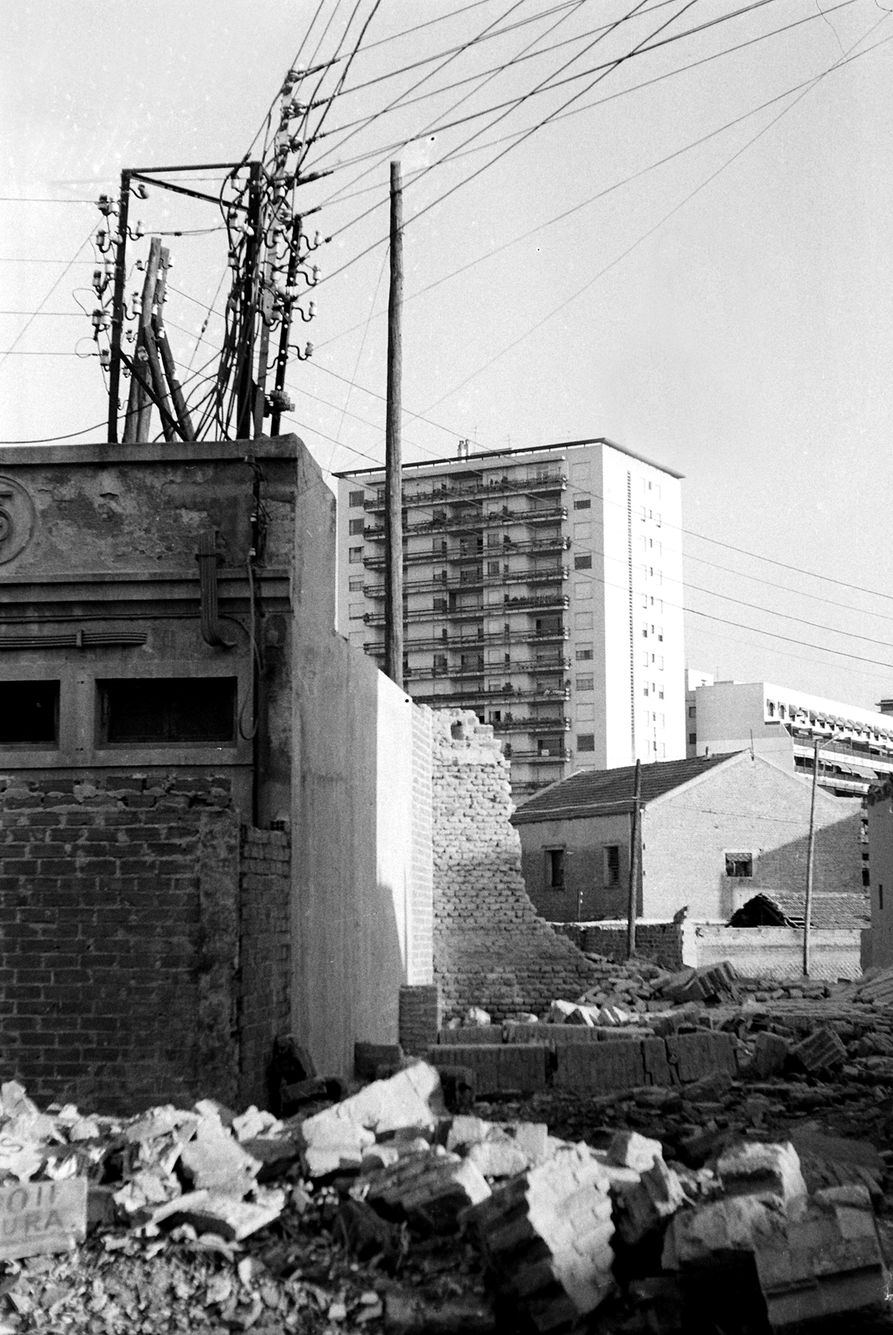fachada: (0, 434, 446, 1097), (517, 751, 884, 934)
poste: (96, 121, 367, 451), (375, 150, 442, 701)
